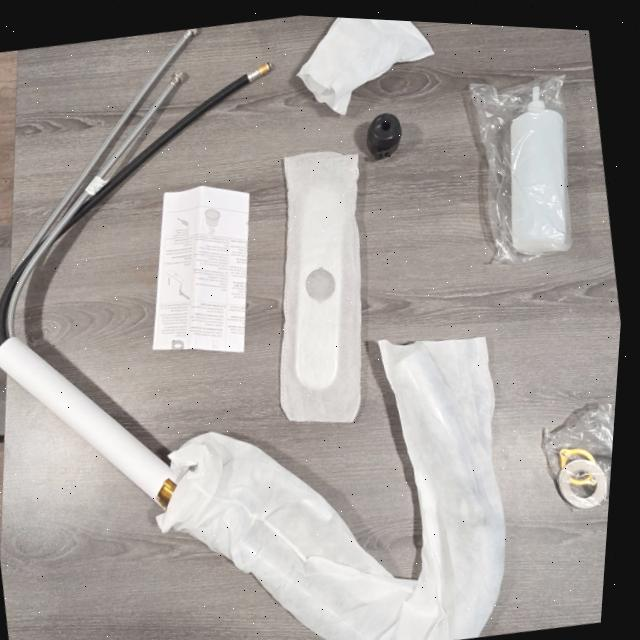1c: (0, 27, 505, 640)
2c: (297, 17, 433, 113)
3: (469, 75, 571, 263)
4c: (280, 151, 361, 421)
5: (366, 111, 402, 159)
6: (542, 402, 614, 508)
8: (152, 185, 249, 351)
